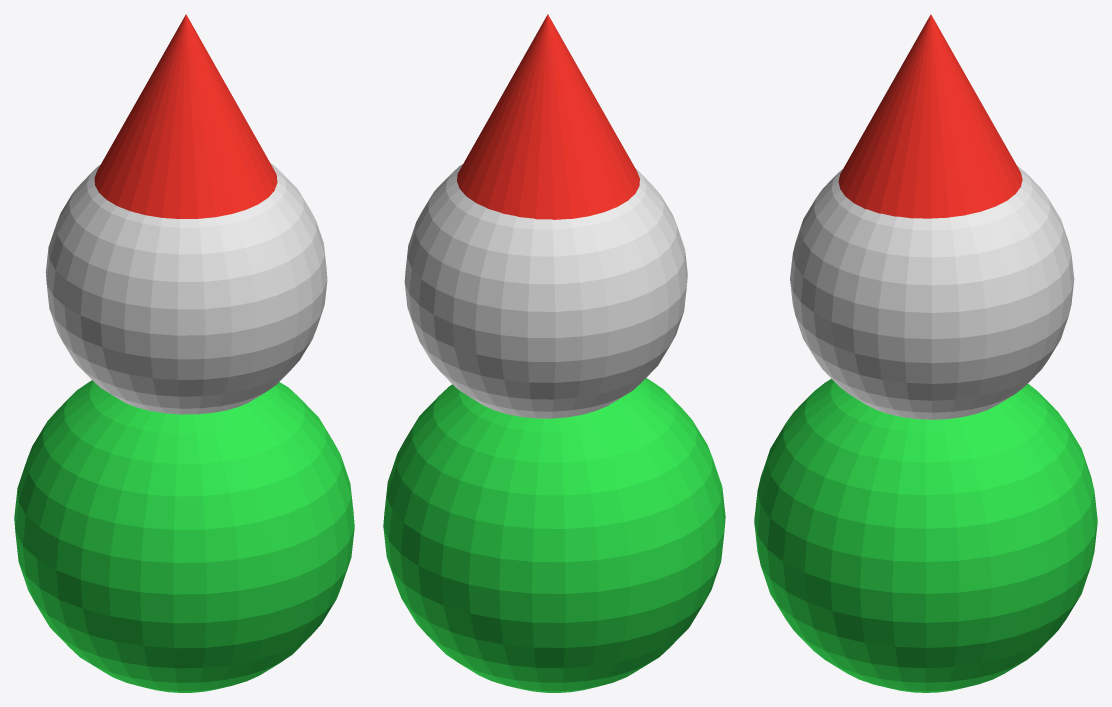
Rendered from snow_three.fbx.
3 views of the same model, side by side, from view 1: azimuth 30°, elevation 25°; view 2: azimuth 150°, elevation 25°; view 3: azimuth 270°, elevation 25° (orthographic).
Visible parts, largest first — view 1: 구체.001, 구체.004, 원뿔; view 2: 구체.001, 구체.004, 원뿔; view 3: 구체.001, 구체.004, 원뿔.
Boxes of the visible parts, <box> form: 구체.001: <box>14,380,354,692</box>; 구체.004: <box>45,163,327,414</box>; 원뿔: <box>94,14,277,218</box>; 구체.001: <box>383,378,725,692</box>; 구체.004: <box>404,164,687,418</box>; 원뿔: <box>457,14,639,219</box>; 구체.001: <box>754,379,1097,692</box>; 구체.004: <box>790,166,1074,419</box>; 원뿔: <box>838,14,1022,218</box>.
Bounding box in the file's own units: 1544 × 3297 × 1544.
